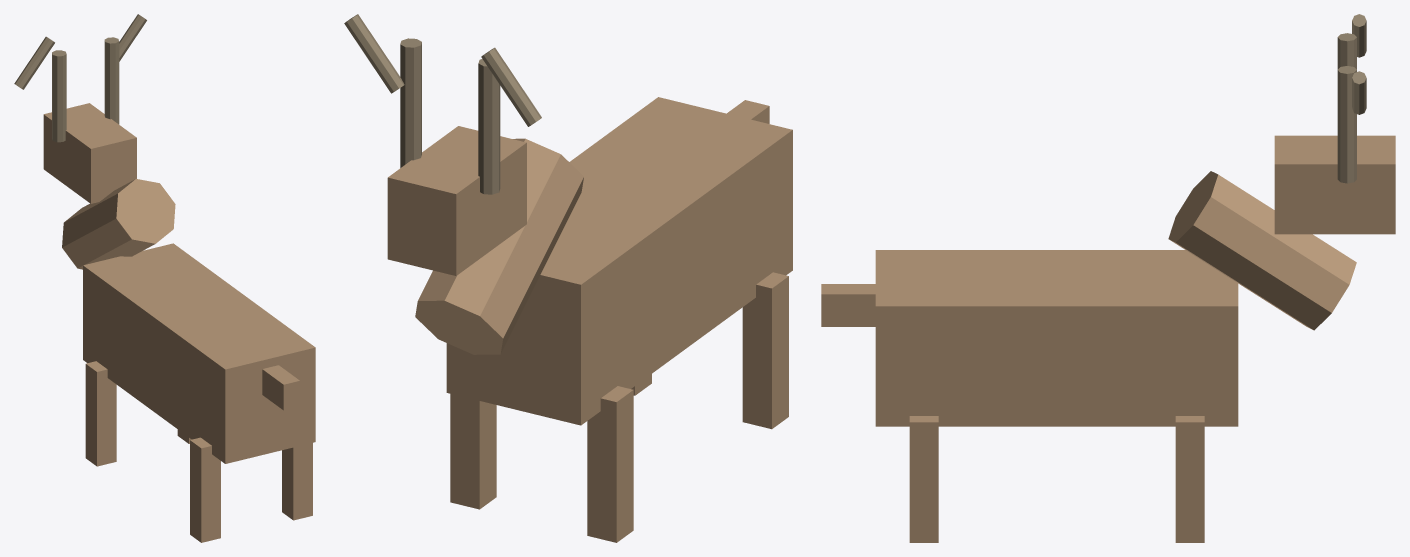
The model's file is Deer.fbx.
3 views of the same model, side by side, from view 1: azimuth 30°, elevation 25°; view 2: azimuth 150°, elevation 25°; view 3: azimuth 270°, elevation 25° (orthographic). The views are drawn at different scales.
Visible parts, largest first — view 1: Deer; view 2: Deer; view 3: Deer.
Boxes of the visible parts, x1,y1,x2,y2 form: Deer: (14, 14, 315, 542); Deer: (344, 14, 792, 542); Deer: (821, 14, 1395, 542).
Size of the model in its own units: 79.88 by 216 by 237.
